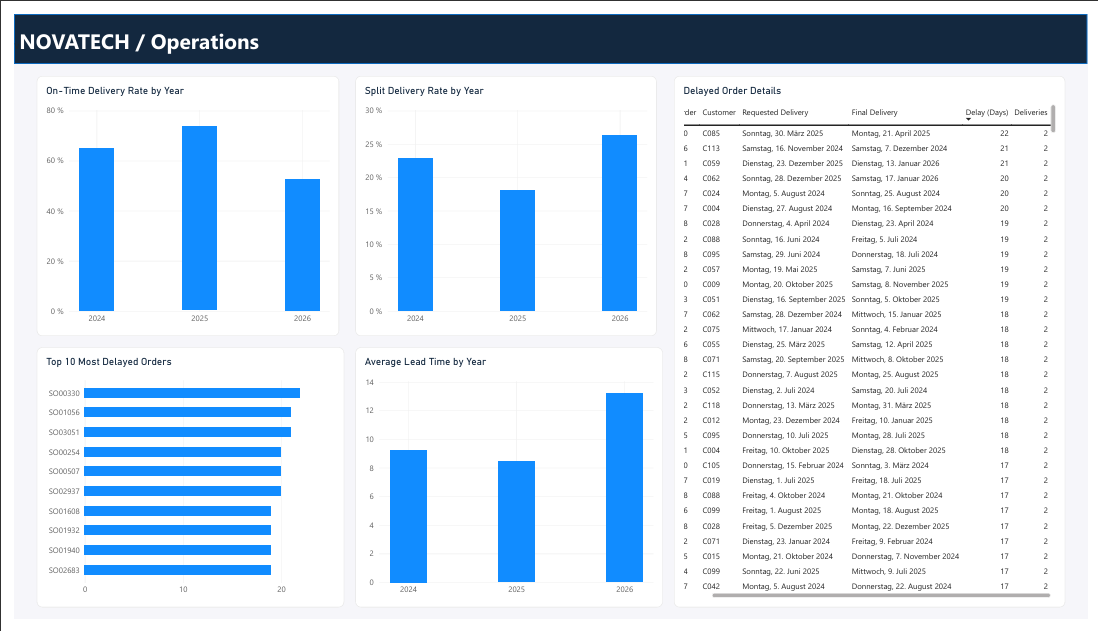

The page's visual inventory and layout, read from the dashboard file:
{"tool":"powerbi","page":{"name":"Operations","canvas":[1920,1080],"ordinal":2},"visuals":[{"type":"clusteredColumnChart","title":"On-Time Delivery Rate by Year","fields":{"Category":["public vw_order_fulfillment.final_delivery_date.Variation.Datumshierarchie.Jahr"],"Y":["customer_performance.On-Time Delivery %"]},"box":[40,110,541,465],"z":0},{"type":"clusteredColumnChart","title":"Average Lead Time by Year","fields":{"Category":["public vw_order_fulfillment.final_delivery_date.Variation.Datumshierarchie.Jahr"],"Y":["customer_performance.Avg Lead Time"]},"box":[610,595,550,465],"z":1000},{"type":"clusteredColumnChart","title":"Split Delivery Rate by Year","fields":{"Category":["public vw_order_fulfillment.final_delivery_date.Variation.Datumshierarchie.Jahr"],"Y":["public vw_order_fulfillment.Split Delivery %"]},"box":[610,110,539,465],"z":2000},{"type":"clusteredBarChart","title":"Top 10 Most Delayed Orders","fields":{"Category":["public vw_order_fulfillment.sales_order_id"],"Y":["public vw_order_fulfillment.Max Delay Days"]},"box":[40,595,550,465],"z":3000},{"type":"tableEx","title":"Delayed Order Details","fields":{"Values":["public vw_order_fulfillment.sales_order_id","public vw_order_fulfillment.customer_id","public vw_order_fulfillment.requested_delivery_date","public vw_order_fulfillment.final_delivery_date","public vw_order_fulfillment.delay_days","public vw_order_fulfillment.delivery_count"]},"box":[1180,110,700,950],"z":4000},{"type":"group","id":"g1","title":"Gruppe 1","box":[0,0,1919.2,88.5],"z":4001},{"type":"shape","box":[0,0,1919.2,88.5],"z":12000,"group":"g1"},{"type":"textbox","box":[0,22.1,1919.2,66.3],"z":13000,"group":"g1"}]}

Visuals, with their boxes in screenshot pixels (x1, y1, x2, y2), scaled from the page's 1920x1080 canvas onto the 1098x631 screenshot:
"On-Time Delivery Rate by Year" clusteredColumnChart: Rect(23, 64, 332, 336)
"Average Lead Time by Year" clusteredColumnChart: Rect(349, 348, 663, 619)
"Split Delivery Rate by Year" clusteredColumnChart: Rect(349, 64, 657, 336)
"Top 10 Most Delayed Orders" clusteredBarChart: Rect(23, 348, 337, 619)
"Delayed Order Details" tableEx: Rect(675, 64, 1075, 619)
"Gruppe 1" group: Rect(0, 0, 1097, 52)
shape: Rect(0, 0, 1097, 52)
textbox: Rect(0, 13, 1097, 52)
